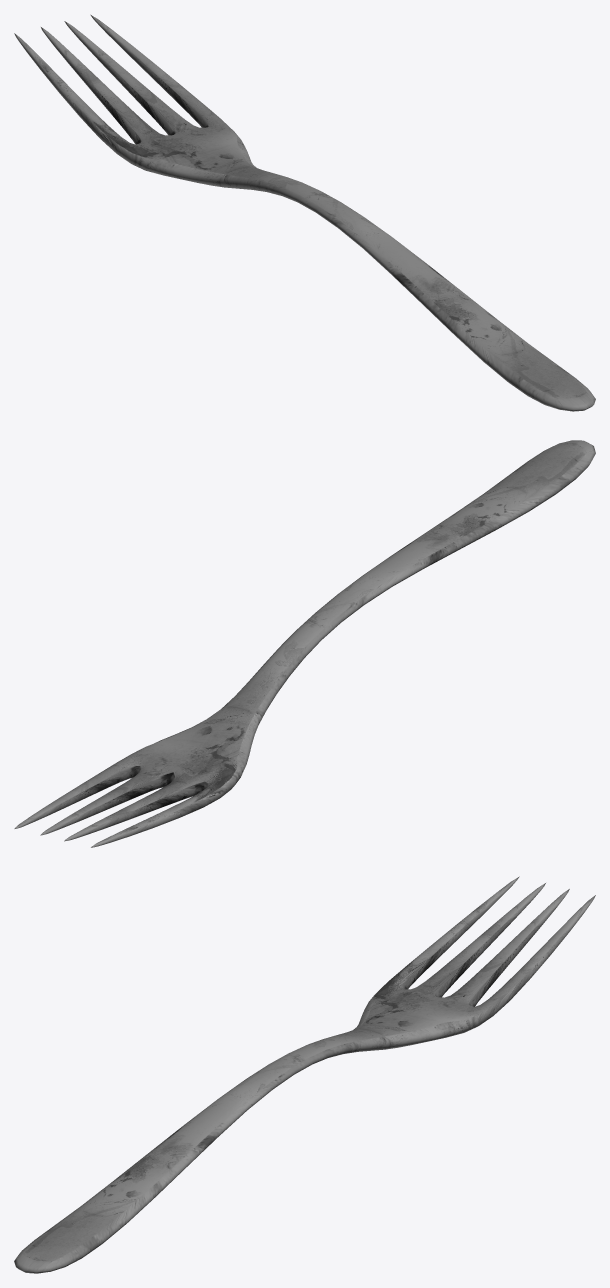
The model's file is Trash_Fork_Final(Smoothed).fbx.
3 renders of one model, top to bottom at view 1: azimuth 30°, elevation 25°; view 2: azimuth 150°, elevation 25°; view 3: azimuth 330°, elevation 25°, orthographic.
Visible parts, largest first — view 1: fork_001; view 2: fork_001; view 3: fork_001.
Boxes of the visible parts, x1,y1,x2,y2 form: fork_001: (14,14,595,411); fork_001: (14,440,595,847); fork_001: (14,876,595,1273).
Bounding box in the file's own units: 1.67 × 0.9372 × 14.35.
1 material, 1 textured.
